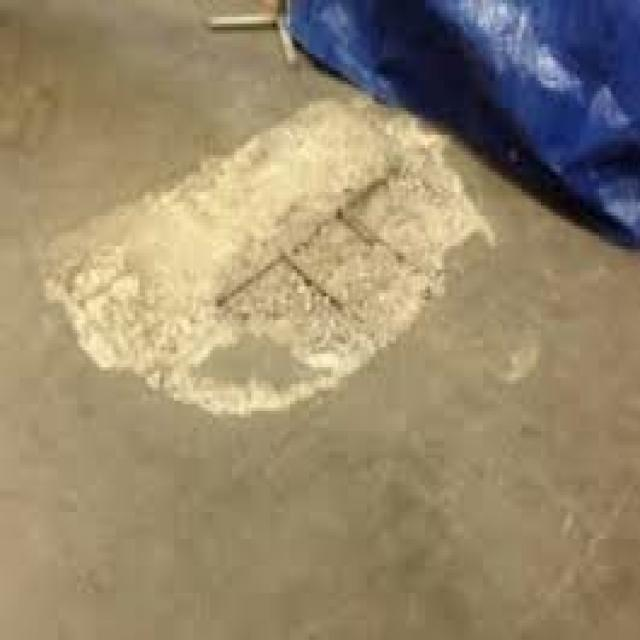Pothole: (50, 78, 498, 485)
